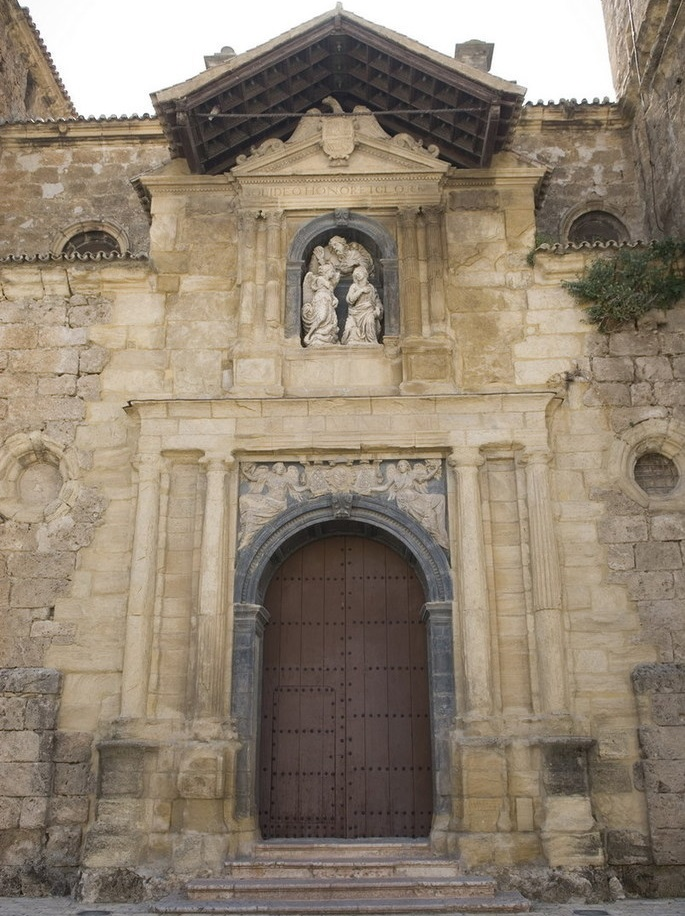arco-medio-punto: (246, 515, 439, 640)
fronton: (226, 128, 461, 187)
